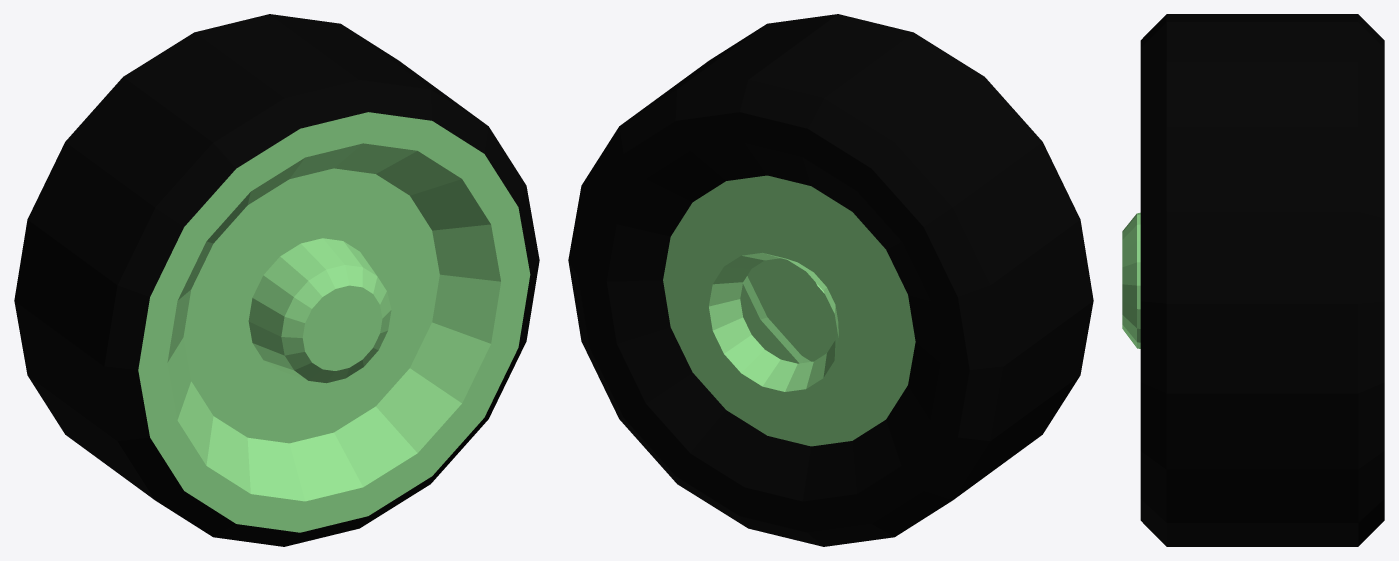
The model's file is SM_Car_02_FrontWheel 2.fbx.
The picture shows the model from 3 angles, left to right: view 1: azimuth 30°, elevation 25°; view 2: azimuth 150°, elevation 25°; view 3: azimuth 270°, elevation 25°; orthographic projection. The views are drawn at different scales.
Parts seen in each view (by area): view 1: SM_Car_02_FrontWheel; view 2: SM_Car_02_FrontWheel; view 3: SM_Car_02_FrontWheel.
Boxes of the visible parts, x1,y1,x2,y2 form: SM_Car_02_FrontWheel: (14,14,539,546); SM_Car_02_FrontWheel: (568,14,1093,546); SM_Car_02_FrontWheel: (1122,14,1384,546).
Size of the model in its own units: 10.93 by 10.76 by 5.35.
